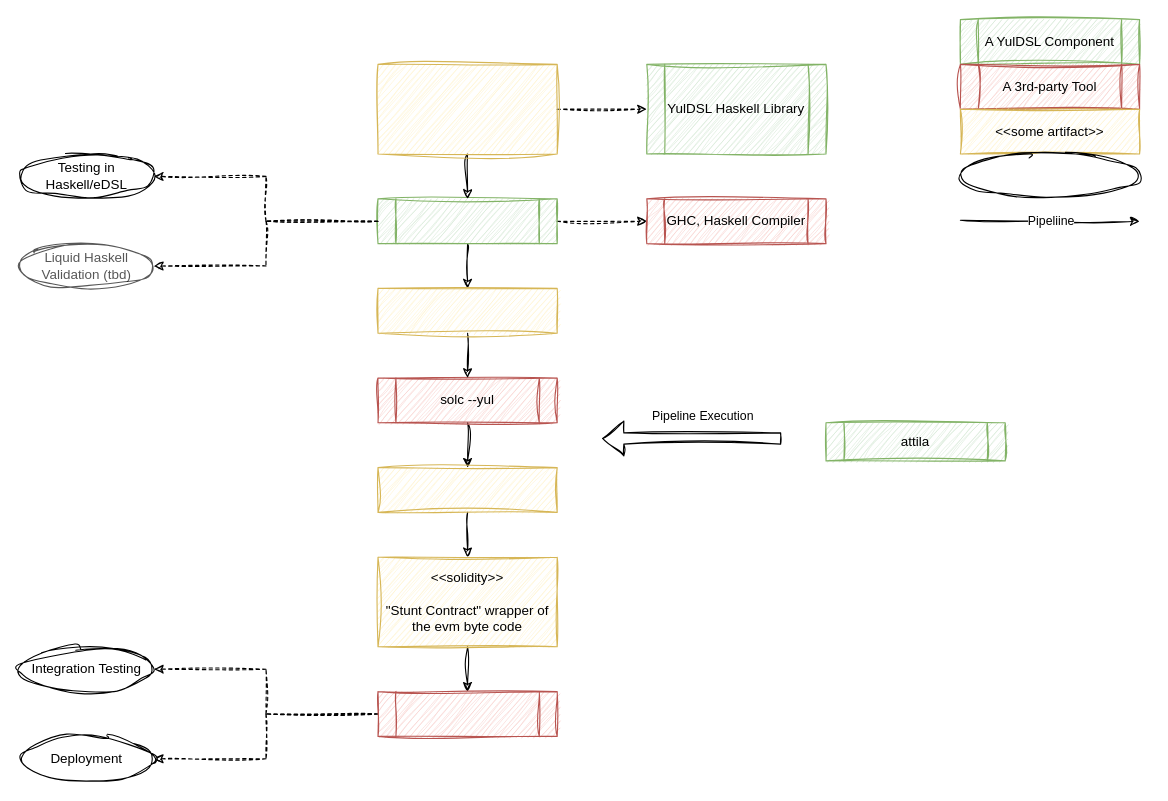
This 1168x801 diagram has some shape labels left out. Here are the shapes that lost their labels. From the top down, the centre of each, then its label:
(467,108): <<haskell source code>> Smart Contracts in Haskell & YulDSL Library
(1049,176): A Use Case
(467,221): yolc: a YulDSL Compiler
(467,310): <<yul code>>
(467,489): <<evm bytecode>>
(467,713): foundry/forge
